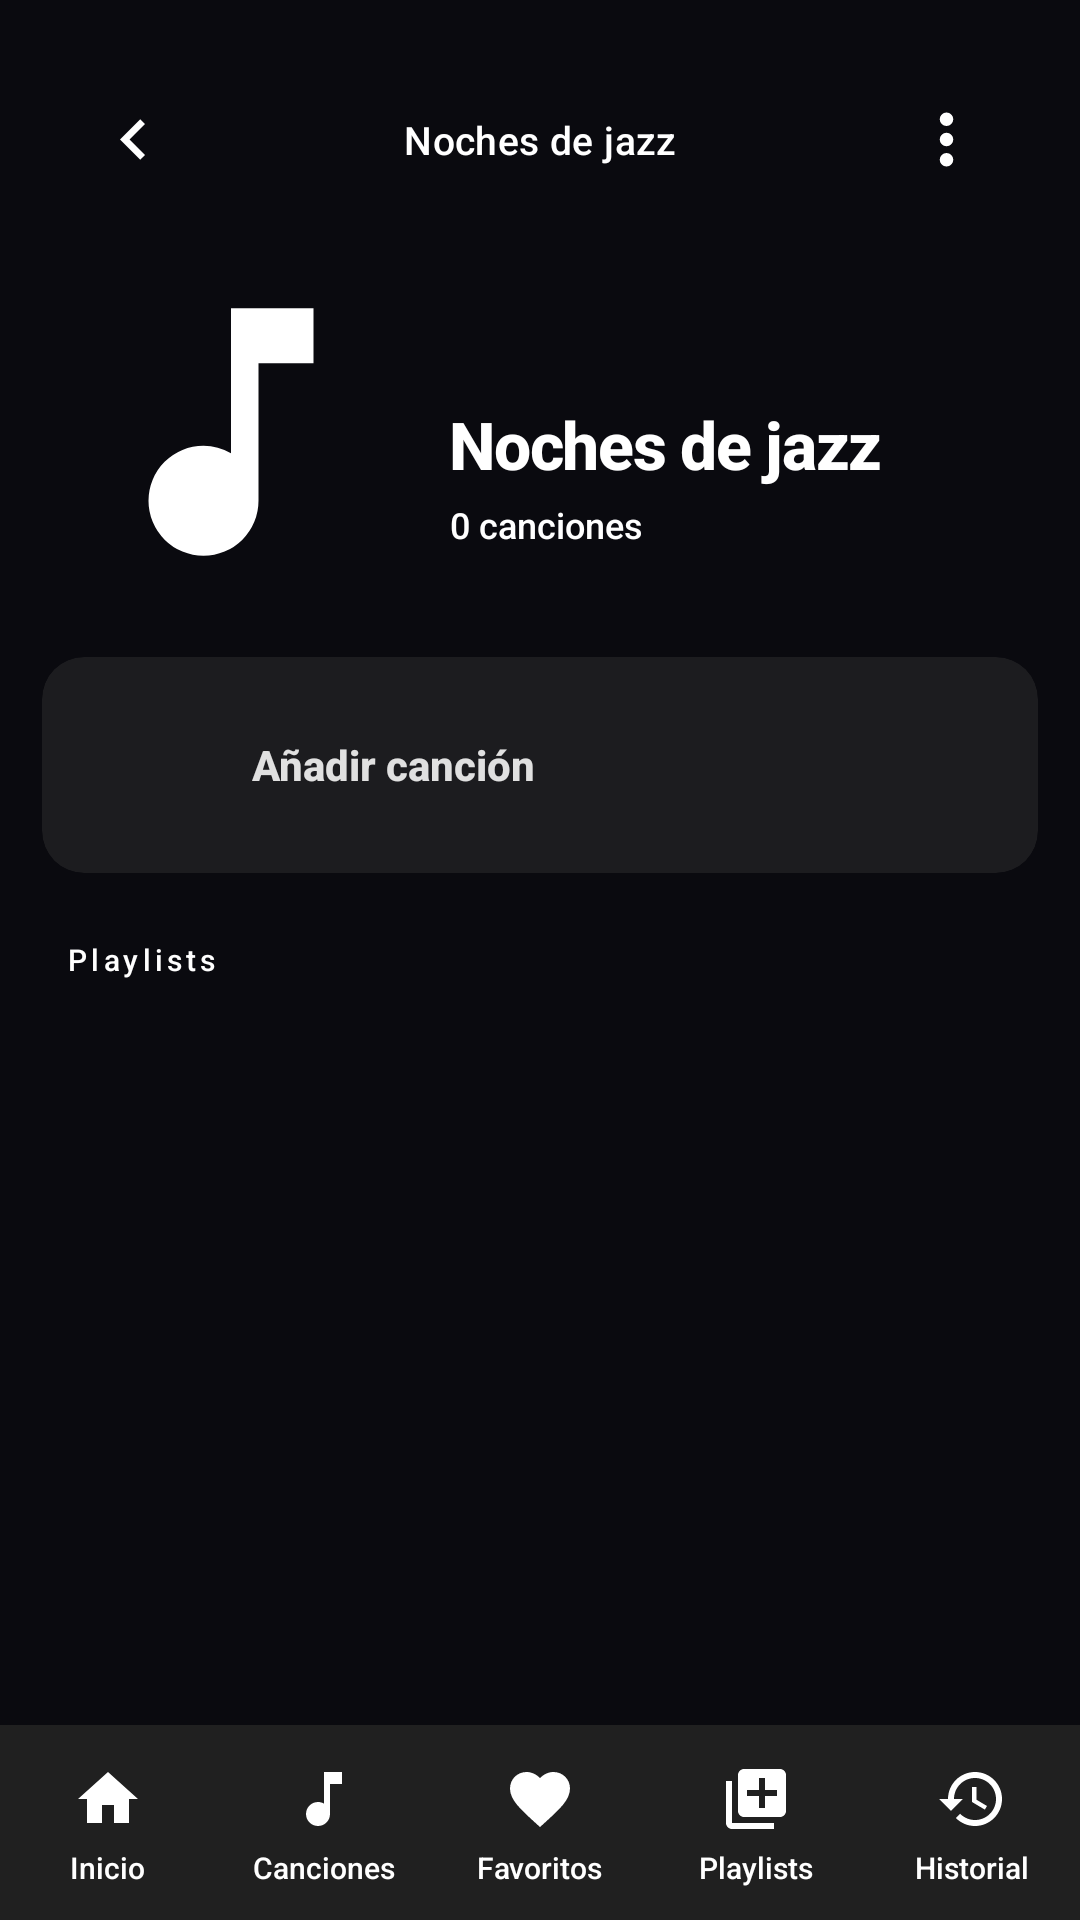

Named icons in this screenshot (1080×1920) and their bounding boxes, (left=x1, top=y1, right=x2, bottom=y2):
back: (left=120, top=119, right=145, bottom=160)
options: (left=939, top=112, right=954, bottom=167)
